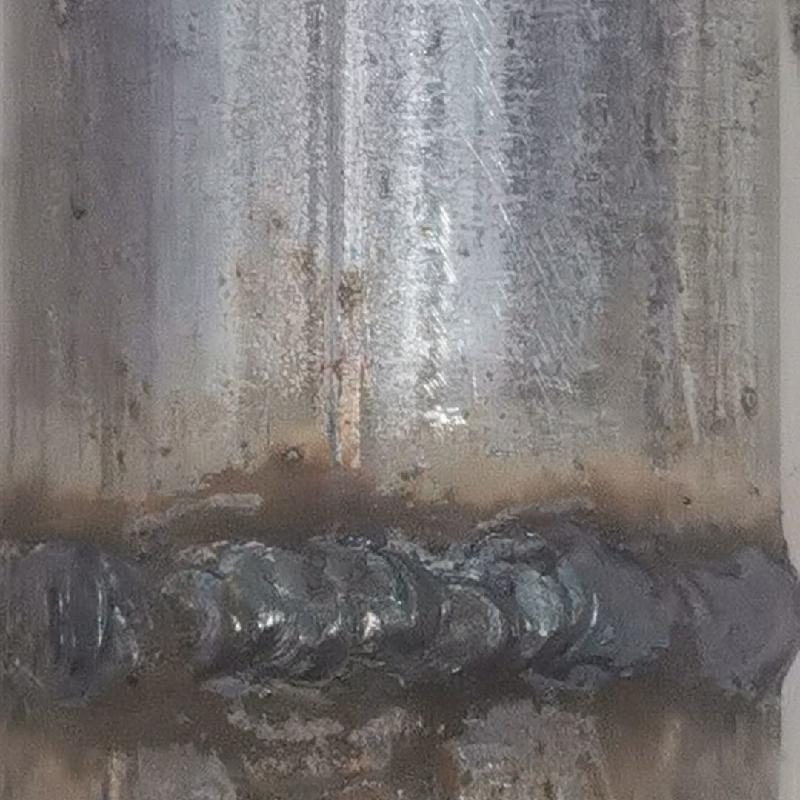good: (0, 512, 799, 712)
